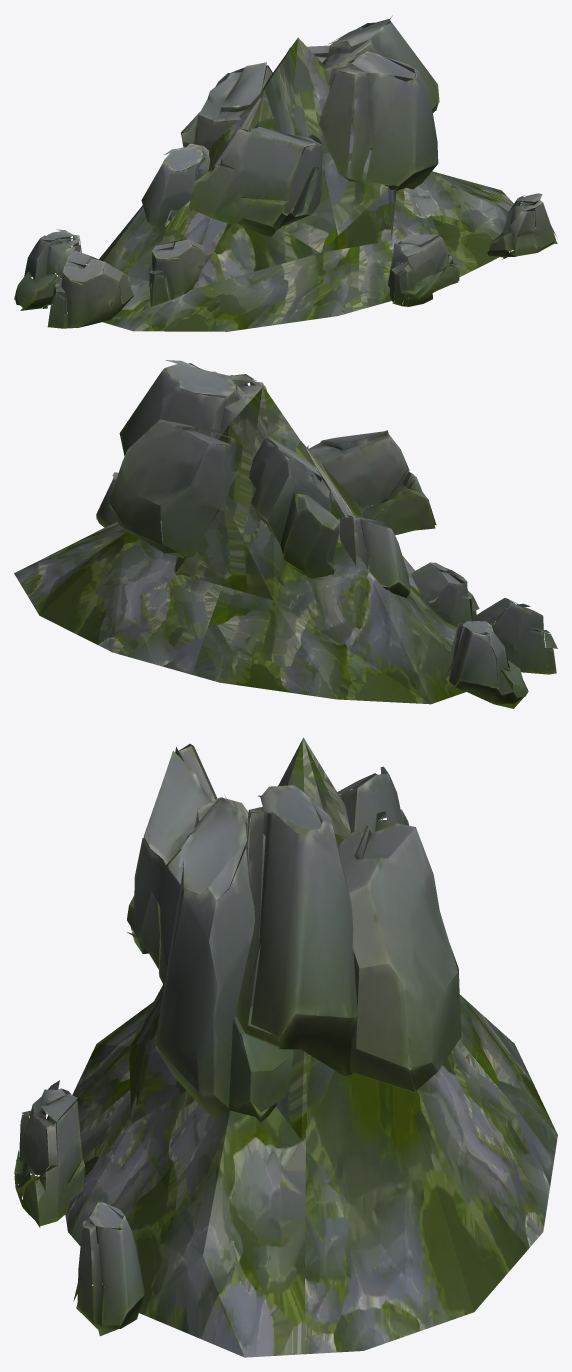
File: rockpile.glb
3 renders of one model, top to bottom at view 1: azimuth 30°, elevation 25°; view 2: azimuth 150°, elevation 25°; view 3: azimuth 270°, elevation 25°, orthographic. The views are drawn at different scales.
Visible parts, largest first — view 1: heap; view 2: heap; view 3: heap.
Part boxes in pixels (x1=…): heap: x1=14, y1=15, x2=557, y2=331; heap: x1=14, y1=360, x2=557, y2=708; heap: x1=14, y1=737, x2=557, y2=1357.
Size of the model in its own units: 3.1 by 1.41 by 1.6.
3 materials, 3 textured.
